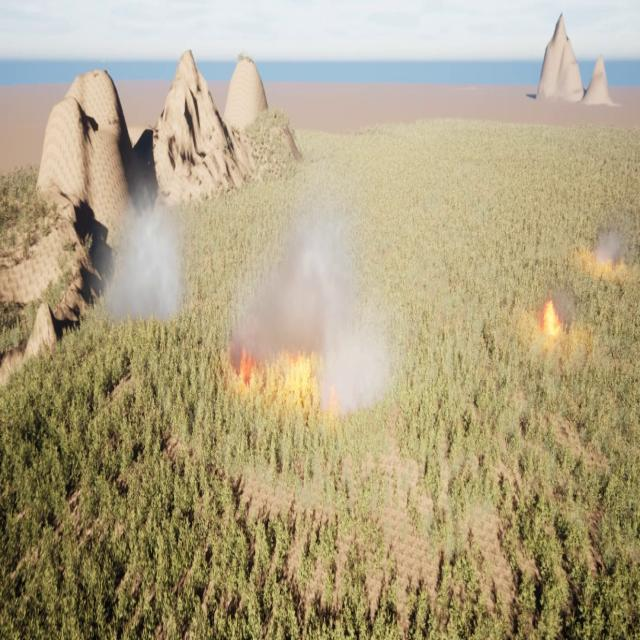fire: (276, 341, 314, 373), (231, 342, 259, 382), (327, 386, 348, 421), (541, 298, 558, 333)
smoke: (228, 173, 408, 415), (98, 175, 195, 335), (589, 222, 625, 270), (556, 295, 572, 336)
